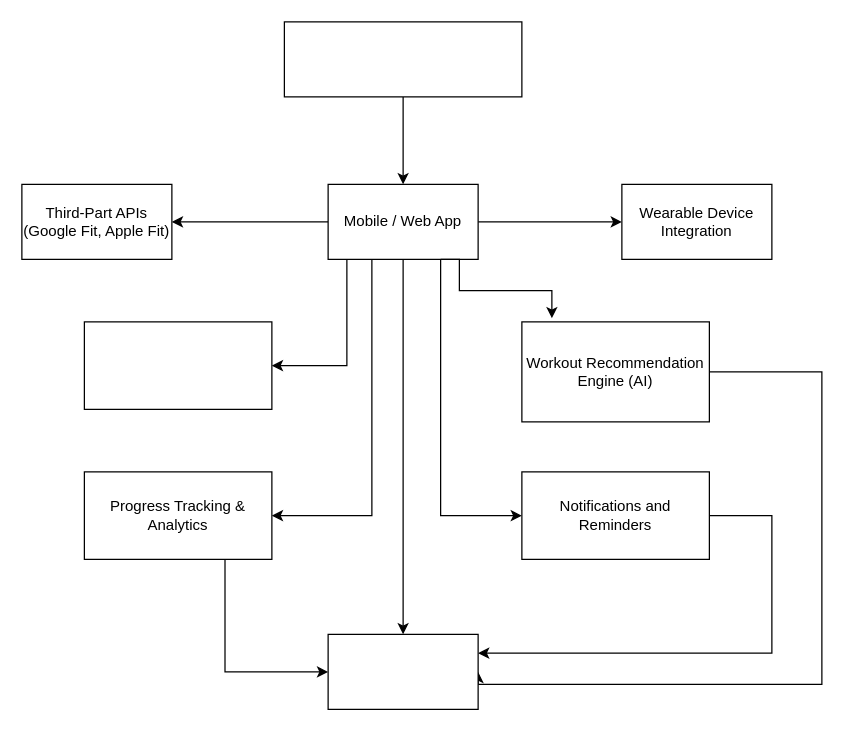
This 854x731 diagram has some shape labels left out. Here are the shapes that lost their labels. From the top down, the centre of each, then its label:
At (x=402, y=59): "USER".
At (x=177, y=365): "Authentification Service".
At (x=402, y=671): "Data base (User Data, Workouts, Progress)".
